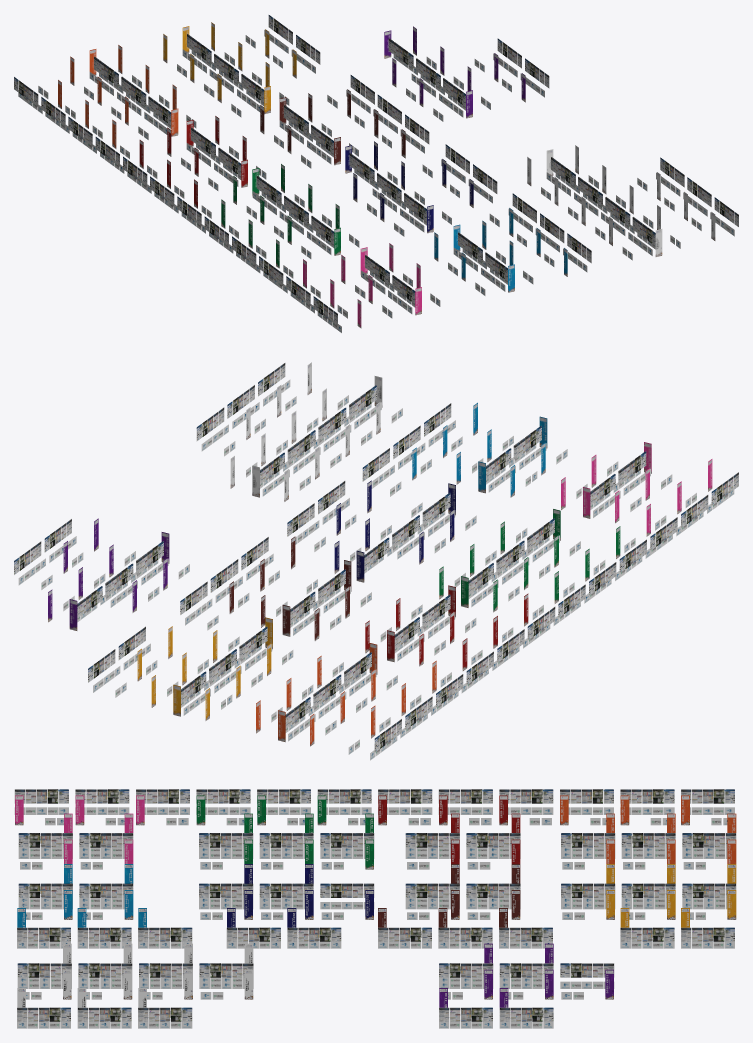
Rendered from Kiosk_Booths_Imgs.glb.
3 renders of one model, top to bottom at view 1: azimuth 30°, elevation 25°; view 2: azimuth 150°, elevation 25°; view 3: azimuth 270°, elevation 25°, orthographic. The views are drawn at different scales.
Visible parts, largest first — view 1: Booth01SingleB.055, Booth01SingleB.044, Booth01SingleB.046, Booth01SingleB.050, Booth01SingleB.057, Booth01SingleB.048, Booth01SingleB.053, Booth01SingleB.056, Booth01SingleB.051, Booth01SingleB.039, Booth01SingleB.041, Booth01SingleB.040 (+8 smaller); view 2: Booth01SingleB.055, Booth01SingleB.046, Booth01SingleB.050, Booth01SingleB.044, Booth01SingleB.048, Booth01SingleB.057, Booth01SingleB.056, Booth01SingleB.053, Booth01SingleB.051, Booth01SingleB.041, Booth01SingleB.042, Booth01SingleB.040 (+8 smaller); view 3: Booth01SingleB.055, Booth01SingleB.044, Booth01SingleB.046, Booth01SingleB.050, Booth01SingleB.048, Booth01SingleB.057, Booth01SingleB.041, Booth01SingleB.039, Booth01SingleB.040, Booth01SingleB.042, Booth01SingleB.056, Booth01SingleB.053 (+8 smaller).
Part boxes in pixels (x1,y1,x2,y2): Booth01SingleB.055: (541, 157, 680, 260); Booth01SingleB.044: (246, 176, 359, 258); Booth01SingleB.046: (84, 56, 196, 139); Booth01SingleB.050: (177, 34, 289, 117); Booth01SingleB.057: (388, 38, 490, 121); Booth01SingleB.048: (349, 153, 451, 236); Booth01SingleB.053: (327, 75, 429, 153); Booth01SingleB.056: (637, 157, 738, 236); Booth01SingleB.051: (489, 193, 591, 272); Booth01SingleB.039: (259, 256, 347, 332); Booth01SingleB.041: (95, 137, 184, 213); Booth01SingleB.040: (177, 196, 266, 273); Booth01SingleB.055: (246, 385, 402, 496); Booth01SingleB.046: (271, 652, 397, 741); Booth01SingleB.050: (167, 626, 293, 715); Booth01SingleB.044: (454, 518, 580, 607); Booth01SingleB.048: (350, 492, 476, 573); Booth01SingleB.057: (63, 541, 189, 622); Booth01SingleB.056: (196, 363, 296, 456); Booth01SingleB.053: (180, 537, 279, 630); Booth01SingleB.051: (362, 403, 462, 496); Booth01SingleB.041: (440, 606, 555, 693); Booth01SingleB.042: (348, 674, 463, 760); Booth01SingleB.040: (532, 539, 646, 625); Booth01SingleB.055: (17, 963, 253, 999); Booth01SingleB.044: (199, 833, 374, 869); Booth01SingleB.046: (561, 833, 736, 869); Booth01SingleB.050: (561, 883, 736, 919); Booth01SingleB.048: (199, 883, 374, 919); Booth01SingleB.057: (439, 963, 614, 999); Booth01SingleB.041: (378, 789, 553, 825); Booth01SingleB.039: (14, 789, 189, 825); Booth01SingleB.040: (196, 789, 371, 825); Booth01SingleB.042: (560, 789, 734, 825); Booth01SingleB.056: (17, 1007, 192, 1028); Booth01SingleB.053: (378, 927, 552, 948).
Size of the model in its own units: 46.84 by 3 by 65.77.
17 materials, 17 textured.
